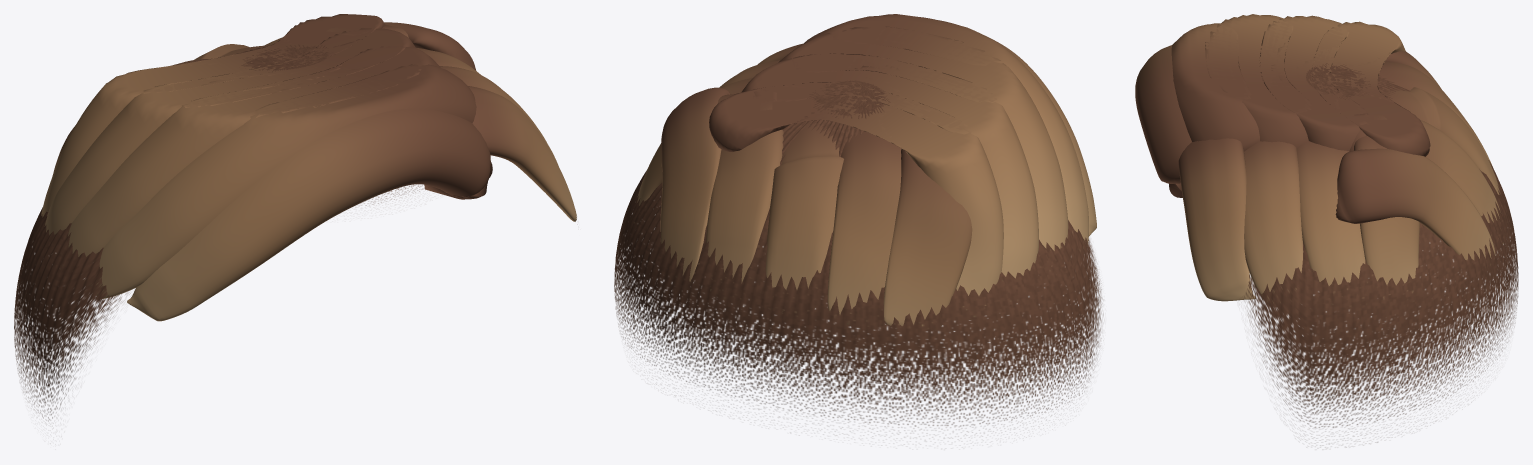
File: Masculine-taper-bucket256-hair-ombre.glb
The picture shows the model from 3 angles, left to right: view 1: azimuth 30°, elevation 25°; view 2: azimuth 150°, elevation 25°; view 3: azimuth 270°, elevation 25°; orthographic projection. The views are drawn at different scales.
Visible parts, largest first — view 1: 226 hair / Hair252 / sculpted locks, 226 hair / Hair252 / gentle tonal variation, 226 hair / Hair256 / selected B sides; view 2: 226 hair / Hair252 / sculpted locks, 226 hair / Hair256 / selected B sides, 226 hair / Hair252 / gentle tonal variation; view 3: 226 hair / Hair252 / sculpted locks, 226 hair / Hair256 / selected B sides, 226 hair / Hair252 / gentle tonal variation.
Part boxes in pixels (<box>): 226 hair / Hair252 / sculpted locks: <box>41,14,558,298</box>; 226 hair / Hair252 / gentle tonal variation: <box>127,58,576,321</box>; 226 hair / Hair256 / selected B sides: <box>14,44,576,421</box>; 226 hair / Hair252 / sculpted locks: <box>634,14,1088,328</box>; 226 hair / Hair256 / selected B sides: <box>614,80,1103,432</box>; 226 hair / Hair252 / gentle tonal variation: <box>757,20,1096,326</box>; 226 hair / Hair252 / sculpted locks: <box>1171,14,1503,306</box>; 226 hair / Hair256 / selected B sides: <box>1244,63,1518,447</box>; 226 hair / Hair252 / gentle tonal variation: <box>1135,45,1492,301</box>.
Bounding box in the file's own units: 0.972 × 0.6199 × 0.7438.
3 materials, 1 textured.
